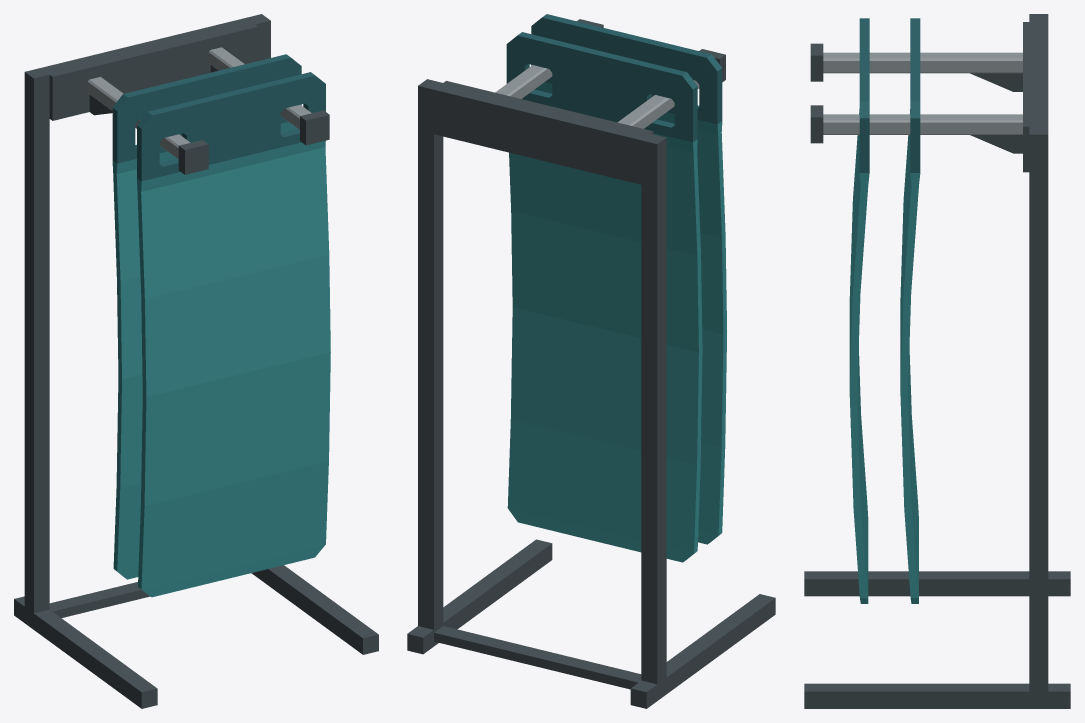
3 renders of one model, left to right at view 1: azimuth 30°, elevation 25°; view 2: azimuth 150°, elevation 25°; view 3: azimuth 270°, elevation 25°, orthographic. The views are drawn at different scales.
Parts seen in each view (by area): view 1: FrontWholeTwoHoleMat, RearWholeTwoHoleMat, LeftRearUpright, UpperCrossbeam, LeftGroundRunner, RightGroundRunner, BaseCrossTie, LeftLongParallelPeg, RightLongParallelPeg, LeftEndStop, RightEndStop, RightRearUpright; view 2: RearWholeTwoHoleMat, FrontWholeTwoHoleMat, LeftRearUpright, RightRearUpright, UpperCrossbeam, LeftGroundRunner, RightGroundRunner, BaseCrossTie, LeftLongParallelPeg, RightLongParallelPeg; view 3: RightRearUpright, FrontWholeTwoHoleMat, RearWholeTwoHoleMat, RightGroundRunner, LeftGroundRunner, LeftLongParallelPeg, RightLongParallelPeg, UpperCrossbeam, LeftRootBrace, RightRootBrace, LeftEndStop, RightEndStop.
Part boxes in pixels (x1,y1,x2,y2): FrontWholeTwoHoleMat: (137,72,330,597); RearWholeTwoHoleMat: (112,54,301,579); LeftRearUpright: (24,68,49,613); UpperCrossbeam: (41,18,258,120); LeftGroundRunner: (14,596,157,708); RightGroundRunner: (251,565,378,654); BaseCrossTie: (49,582,149,617); LeftLongParallelPeg: (87,77,190,159); RightLongParallelPeg: (208,47,311,129); LeftEndStop: (178,140,208,174); RightEndStop: (300,110,329,145); RightRearUpright: (246,14,270,60); RearWholeTwoHoleMat: (506,32,702,562); FrontWholeTwoHoleMat: (531,14,726,544); LeftRearUpright: (641,133,666,684); RightRearUpright: (418,79,443,629); UpperCrossbeam: (434,80,653,184); LeftGroundRunner: (630,594,775,708); RightGroundRunner: (407,539,552,654); BaseCrossTie: (434,626,641,689); LeftLongParallelPeg: (617,80,699,128); RightLongParallelPeg: (495,65,552,98); RightRearUpright: (1029,126,1048,691); FrontWholeTwoHoleMat: (849,18,869,603); RearWholeTwoHoleMat: (900,18,920,603); RightGroundRunner: (804,683,1070,708); LeftGroundRunner: (804,571,1070,596); LeftLongParallelPeg: (823,52,1022,73); RightLongParallelPeg: (823,114,1022,134); UpperCrossbeam: (1023,22,1048,172); LeftRootBrace: (970,73,1022,91); RightRootBrace: (970,135,1022,153); LeftEndStop: (810,43,823,81); RightEndStop: (810,105,823,143).
Size of the model in its own units: 0.9 by 2.05 by 0.84.
